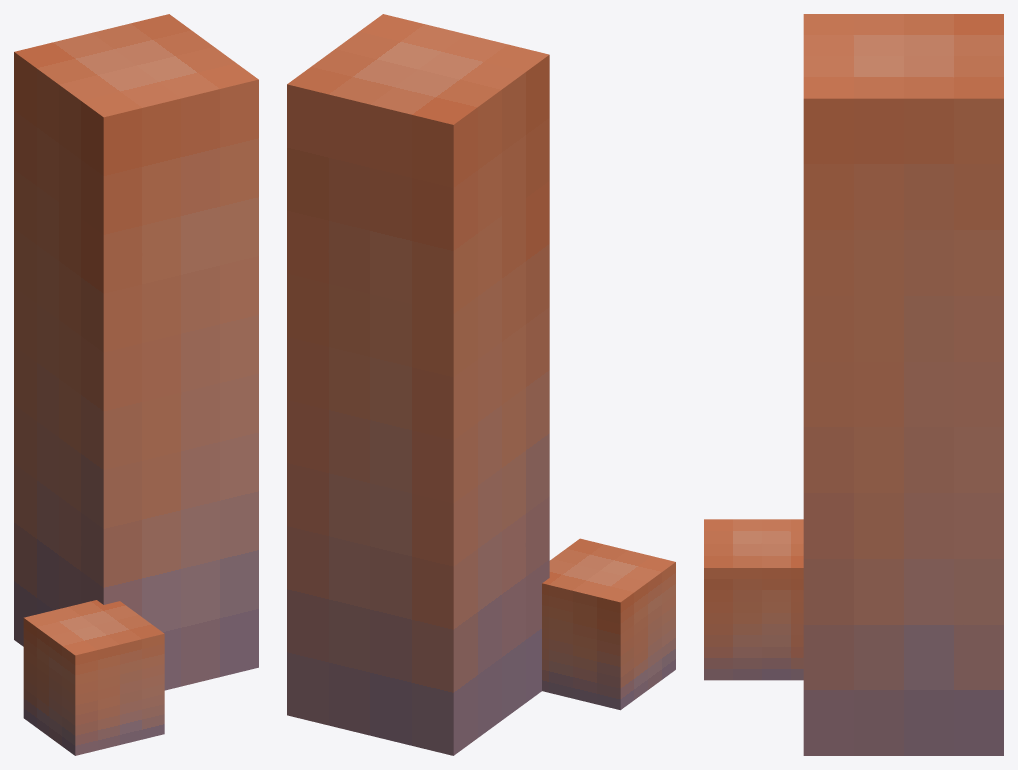
The model's file is sphalerite_crystal_two.obj.
3 renders of one model, left to right at view 1: azimuth 30°, elevation 25°; view 2: azimuth 150°, elevation 25°; view 3: azimuth 270°, elevation 25°, orthographic. The views are drawn at different scales.
Visible parts, largest first — view 1: Crystal5_Cube.008; view 2: Crystal5_Cube.008; view 3: Crystal5_Cube.008.
Part boxes in pixels (box(x1,y1,x2,y2)): Crystal5_Cube.008: box(14, 14, 258, 755); Crystal5_Cube.008: box(287, 14, 675, 755); Crystal5_Cube.008: box(704, 14, 1003, 755).
Bounding box in the file's own units: 0.1355 × 0.3335 × 0.1379.
